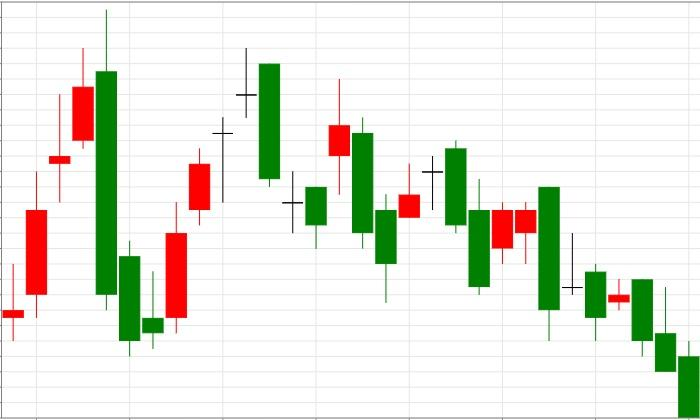bearish_engulfing_fall: (2, 9, 118, 342)
